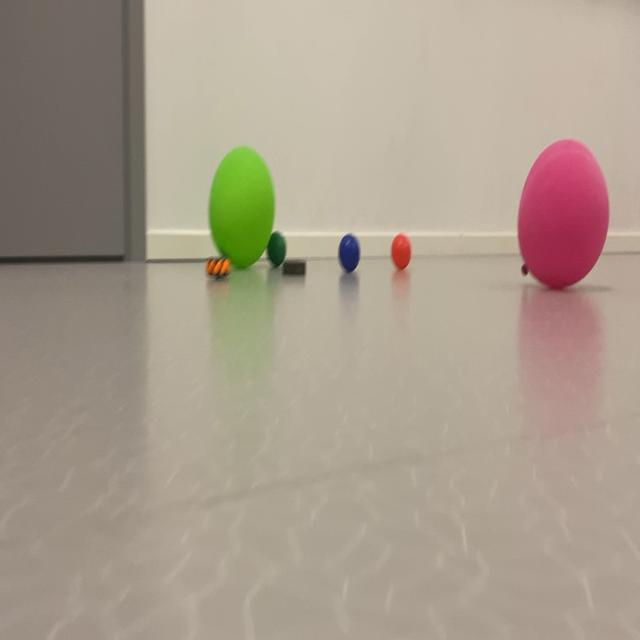7: (387, 221, 416, 284)
red ball: (332, 215, 368, 300), (258, 229, 298, 273)
